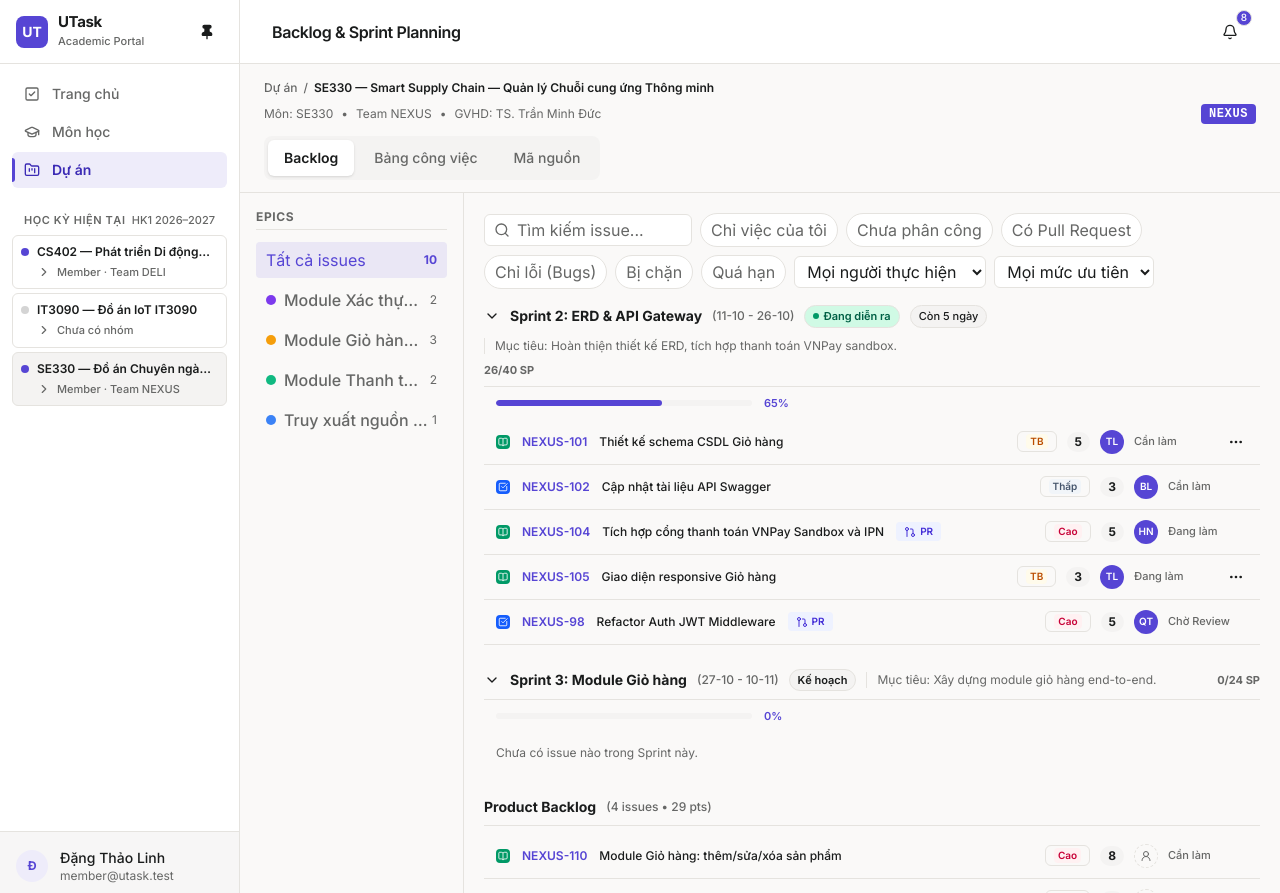
Scenario: Backlog: who may do what › gives a member a menu only on their own issues, without sprint or ordering items
Expected: the button "NEXUS-110" is shown, [522,848,587,864]
Click the button named "Thao tác cho NEXUS-101": (1236, 442) [1224,430,1248,454]
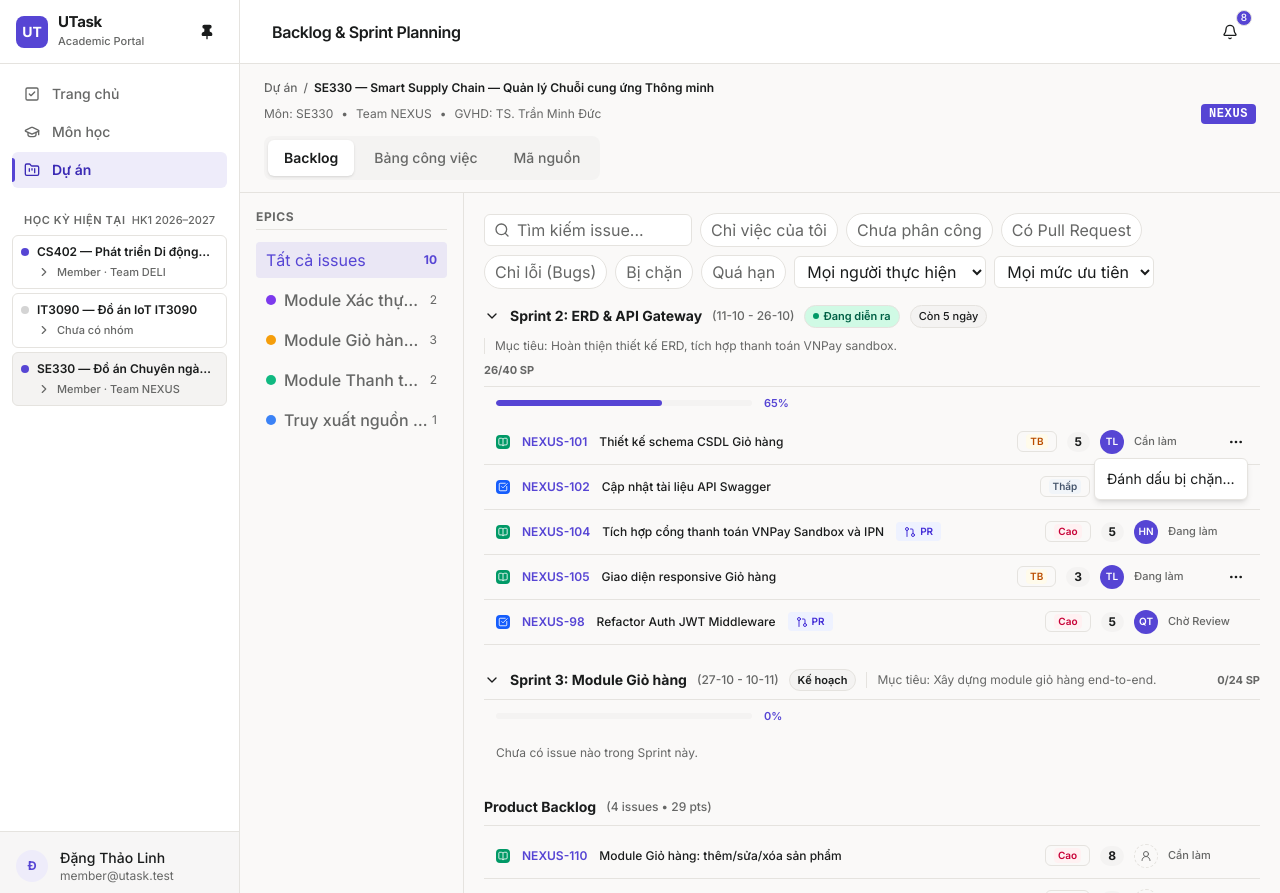
Expected: the menu item "Đánh dấu bị chặn…" is shown, [1107,470,1235,487]
